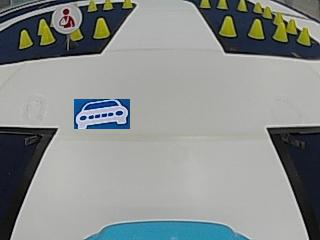cone: (38, 19, 55, 44), (273, 14, 287, 41), (220, 16, 237, 36), (93, 18, 109, 39), (249, 19, 264, 39), (18, 29, 32, 48), (297, 27, 311, 46), (70, 27, 83, 40), (86, 0, 97, 12), (102, 0, 113, 11), (217, 0, 228, 10), (237, 0, 247, 11), (199, 0, 211, 9), (121, 0, 133, 9)
patient: (53, 3, 81, 30)
